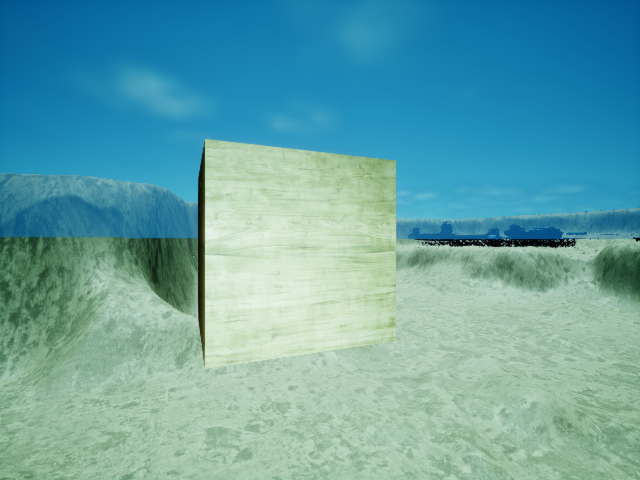Cube: (175, 127, 403, 384)
